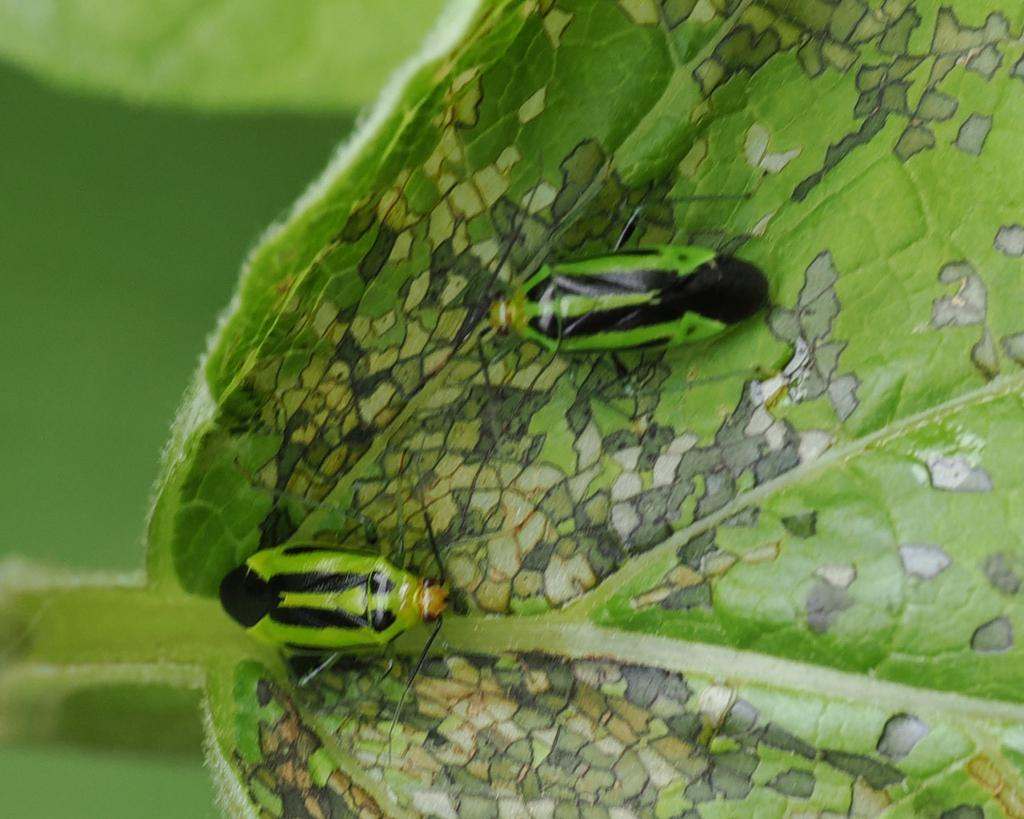plant_bugs: (190, 417, 477, 780), (450, 192, 807, 394)
